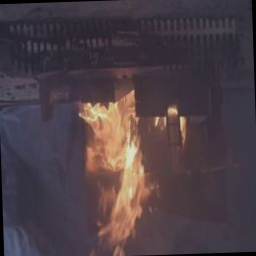fire: (74, 91, 181, 256)
